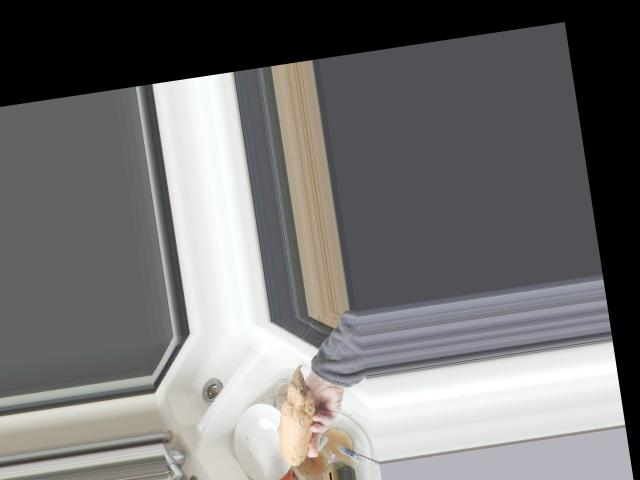sweet_potato: (265, 363, 323, 467)
